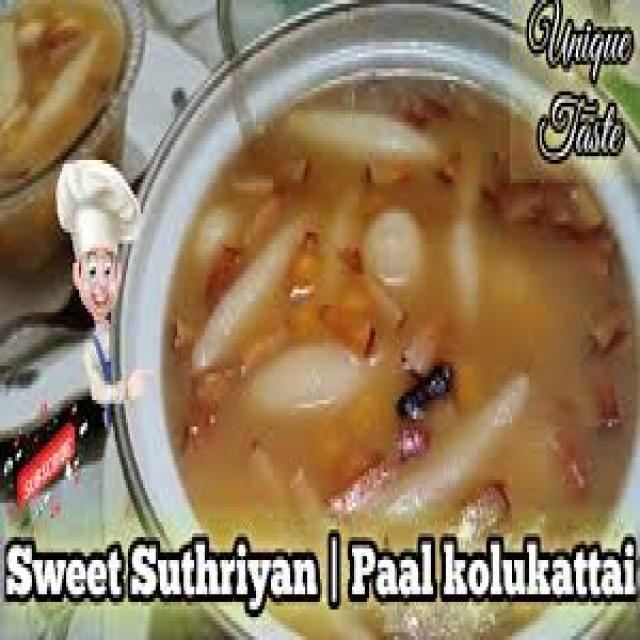paal kolukattai: (146, 102, 590, 514)
